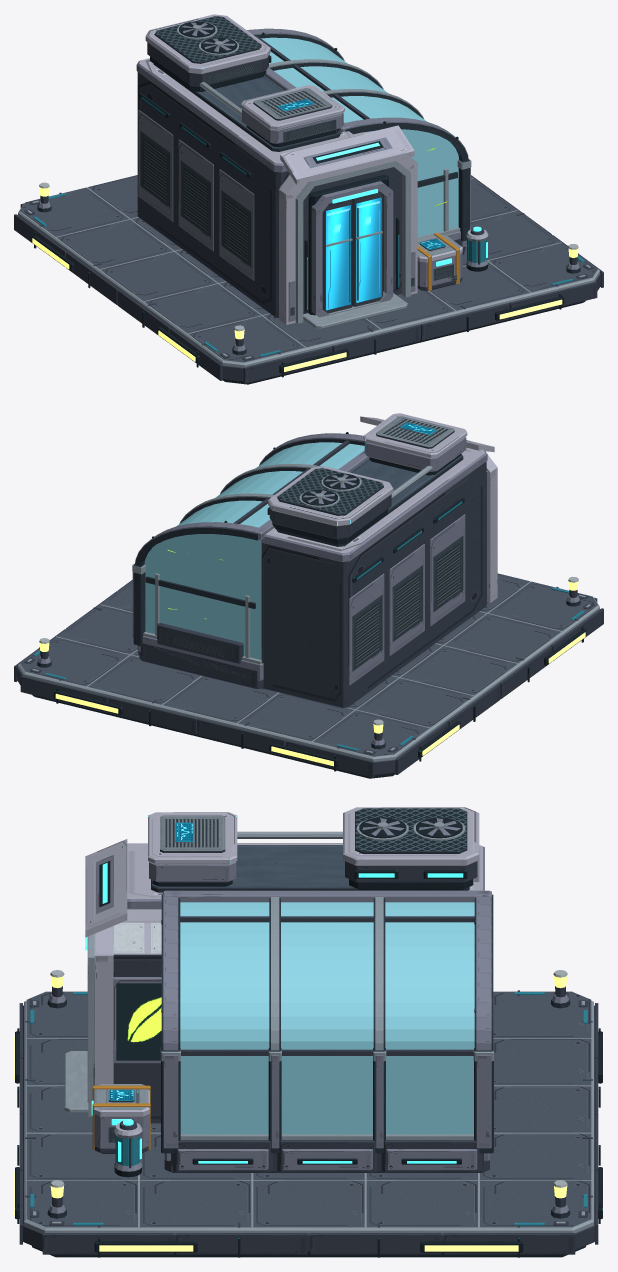
File: GH02_GranjaHidroponicaModular.fbx
3 views of the same model, one above another, from view 1: azimuth 30°, elevation 25°; view 2: azimuth 150°, elevation 25°; view 3: azimuth 270°, elevation 25° (orthographic). The views are drawn at different scales.
Visible parts, largest first — view 1: Estructura_2, Cristal_2; view 2: Estructura_2, Cristal_2; view 3: Estructura_2, Cristal_2.
Part boxes in pixels (x1,y1,x2,y2): Estructura_2: (14,14,603,384); Cristal_2: (261,37,458,236); Estructura_2: (14,413,603,778); Cristal_2: (144,442,364,659); Estructura_2: (14,807,603,1257); Cristal_2: (180,902,474,1134).
Bounding box in the file's own units: 6.16 × 3.27 × 6.24.
